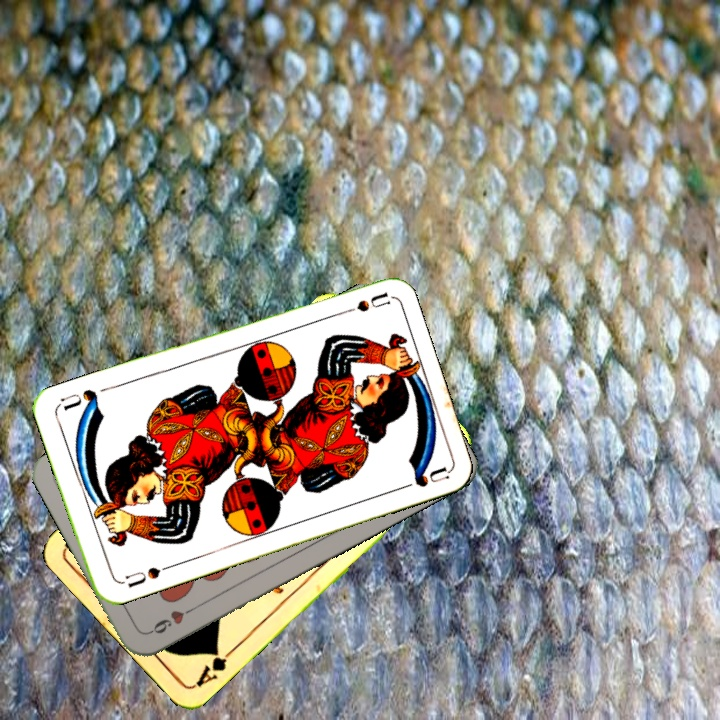GA: (191, 643, 239, 690)
H9: (144, 603, 198, 637)
SU: (332, 288, 391, 319), (116, 561, 174, 590)
